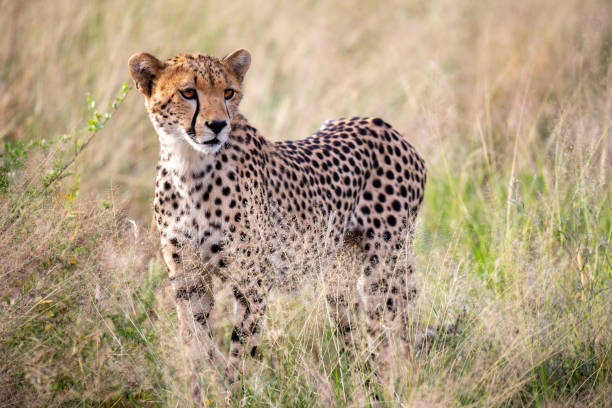cheetah: (117, 35, 280, 161)
